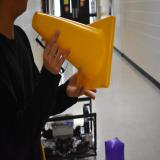cone: (32, 11, 116, 90)
cube: (104, 136, 124, 160)
